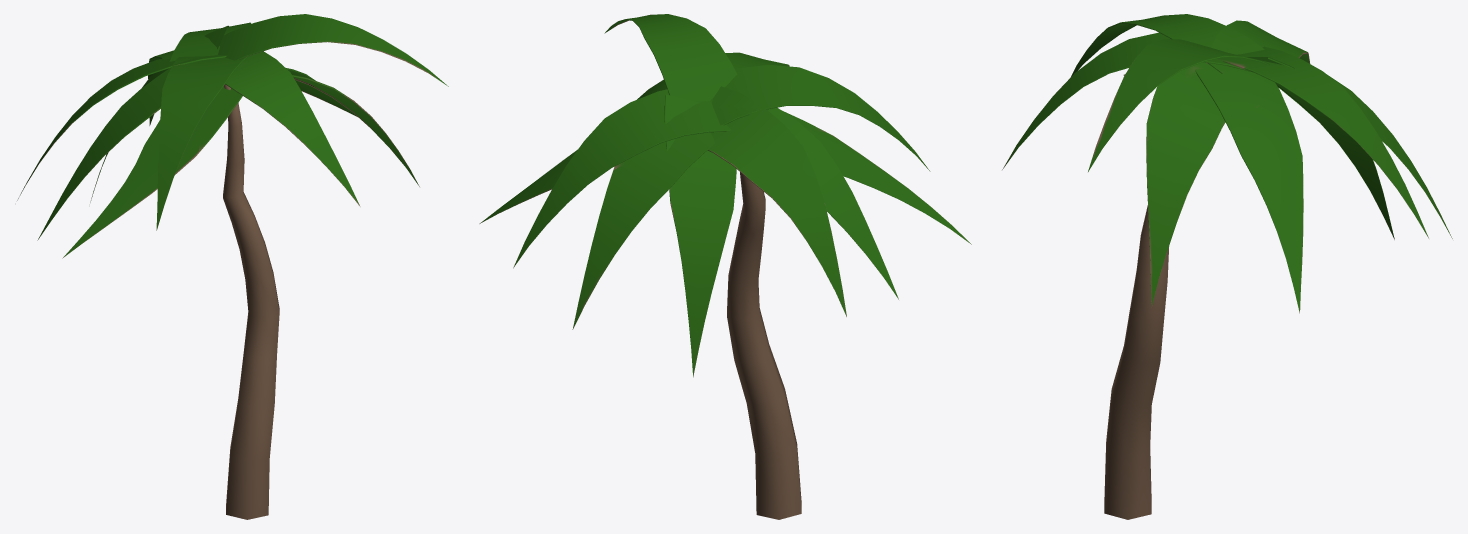
File: palm.glb
3 renders of one model, left to right at view 1: azimuth 30°, elevation 25°; view 2: azimuth 150°, elevation 25°; view 3: azimuth 270°, elevation 25°, orthographic. The views are drawn at different scales.
Parts seen in each view (by area): view 1: palm_01; view 2: palm_01; view 3: palm_01.
Boxes of the visible parts, <box> form: palm_01: <box>17,14,448,519</box>; palm_01: <box>479,14,971,519</box>; palm_01: <box>1002,14,1452,519</box>.
Bounding box in the file's own units: 0.1436 × 0.1574 × 0.1294.
1 material, 1 textured.
